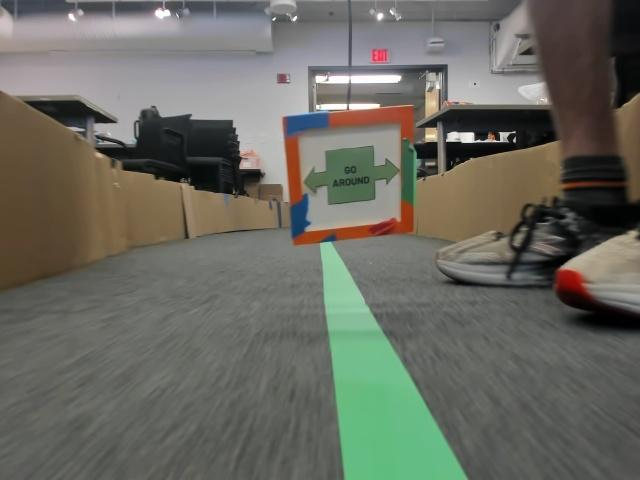Go Around: (302, 151, 396, 205)
